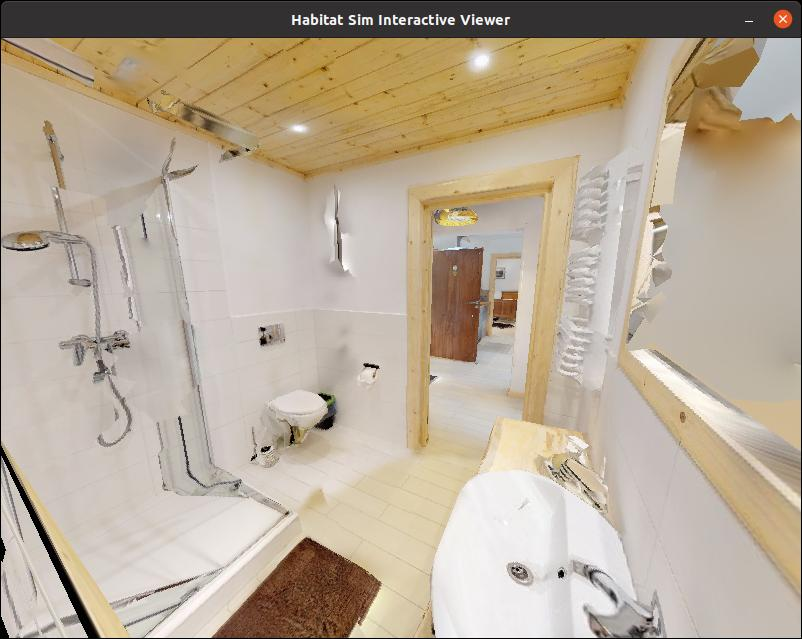door-frame: (399, 183, 566, 464)
shower: (0, 102, 327, 639)
sink: (419, 449, 661, 639)
toilet: (251, 377, 353, 454)
